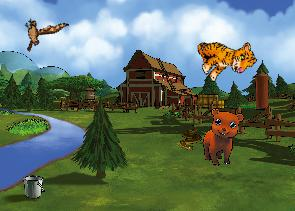bear: (203, 108, 244, 166)
eagle: (12, 2, 69, 61)
tiger: (191, 24, 259, 88)
